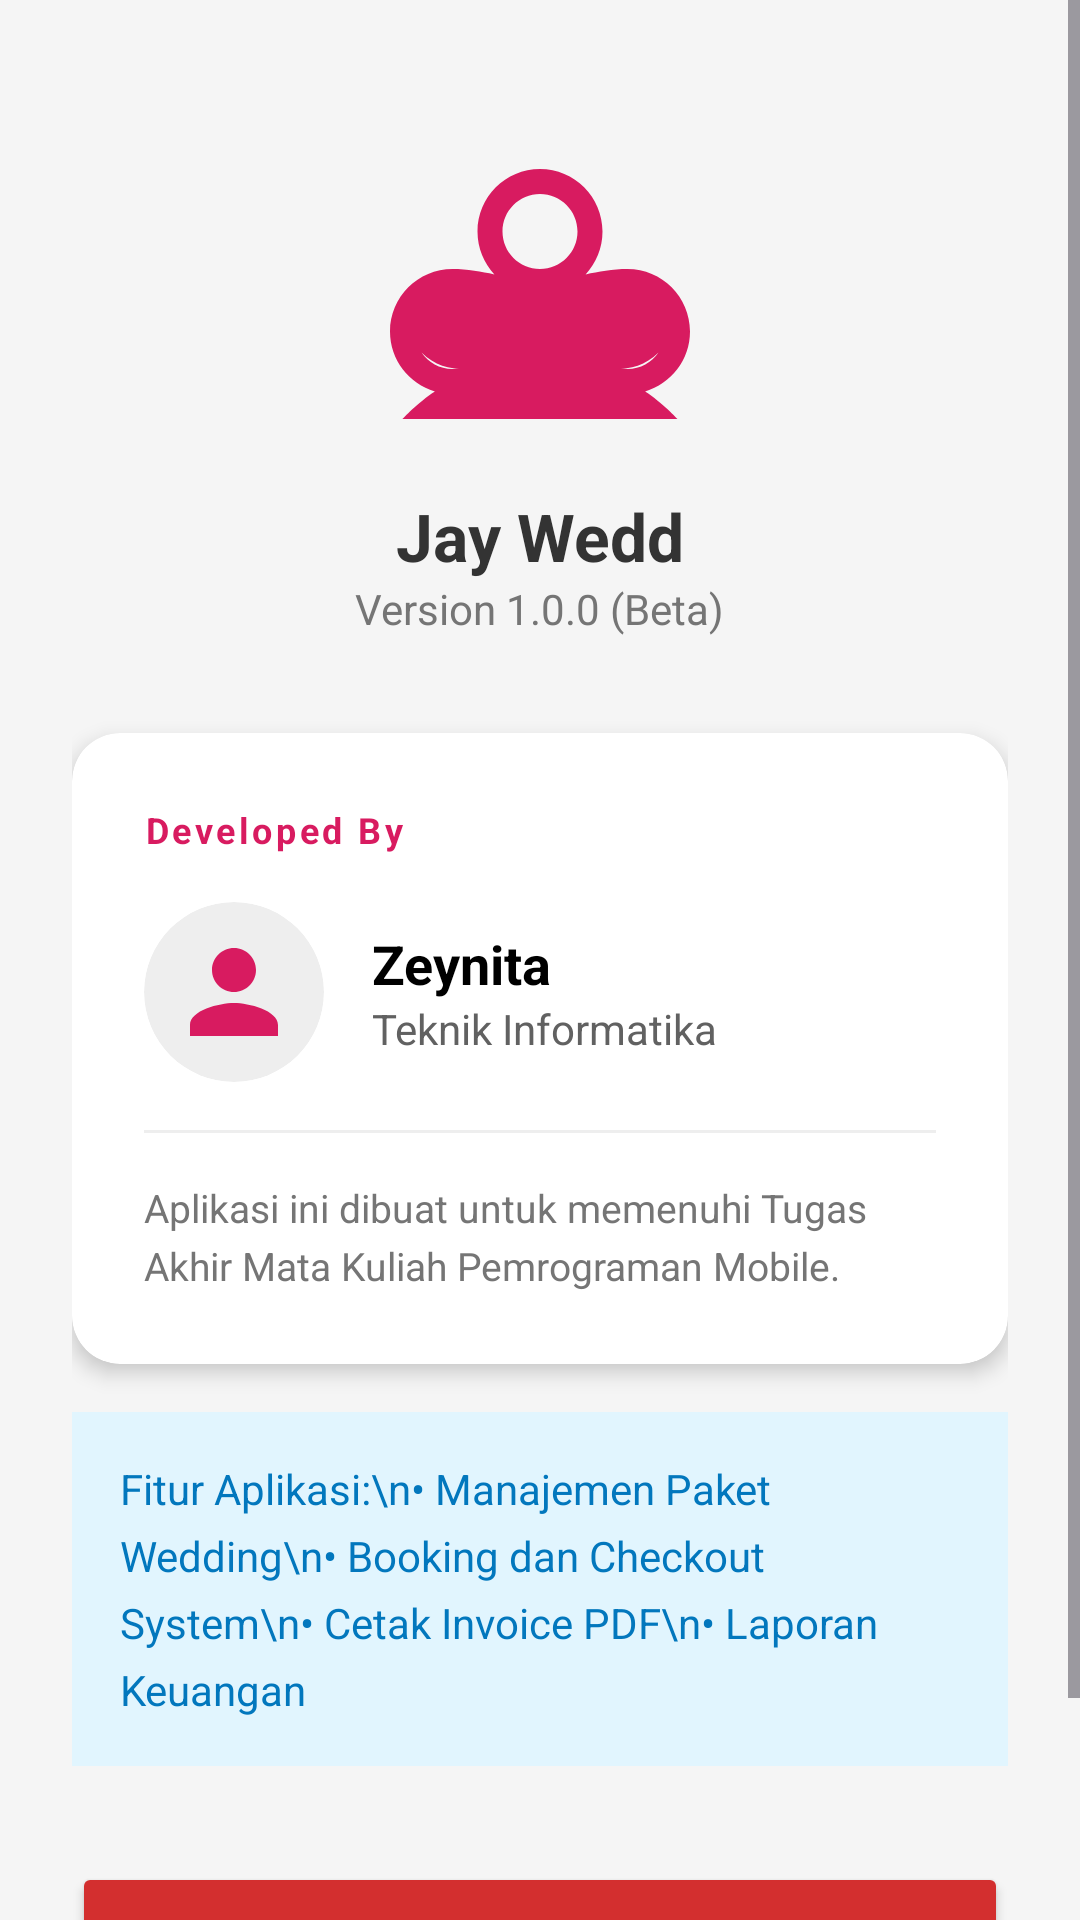

Icon bounding boxes for this 1080px x 1920px phone screenshot, format (x1,y1,x2,y2):
person: (190,948,278,1036)
